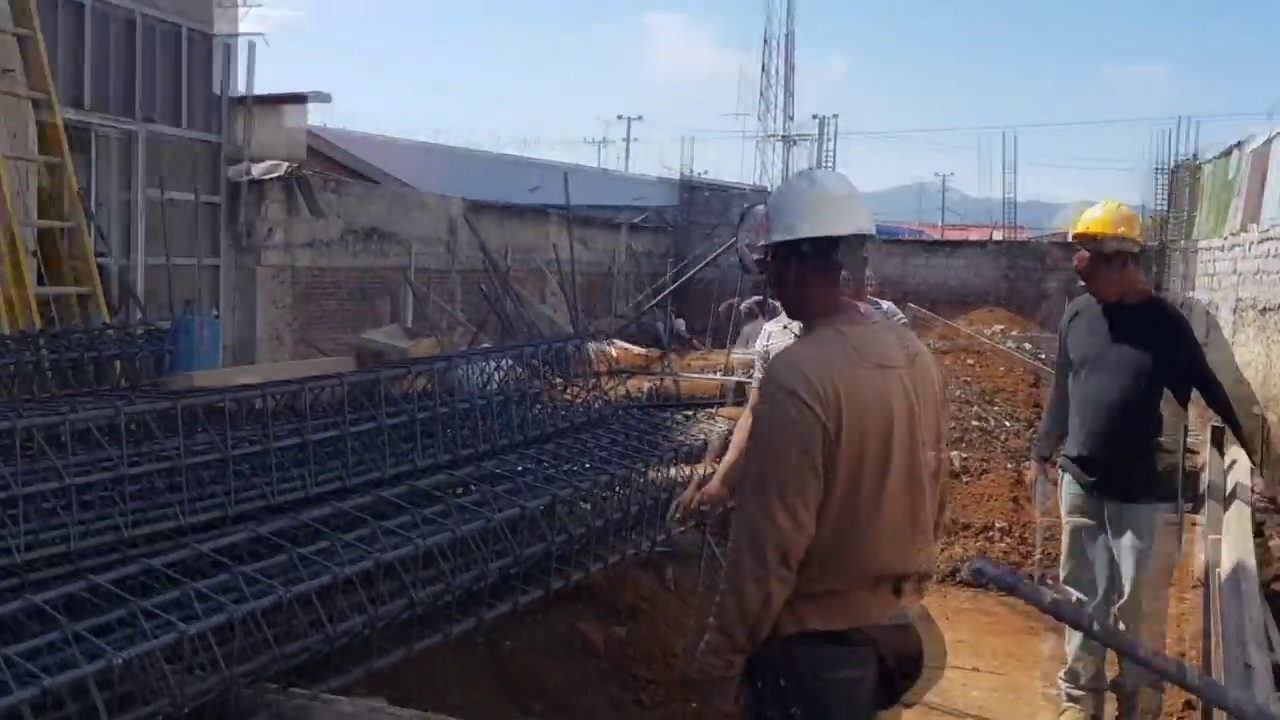helmet: (759, 167, 887, 243), (1068, 205, 1149, 259)
helmet-on: (759, 167, 886, 335), (1070, 204, 1157, 309)
person: (676, 165, 947, 714), (1041, 199, 1242, 720)
